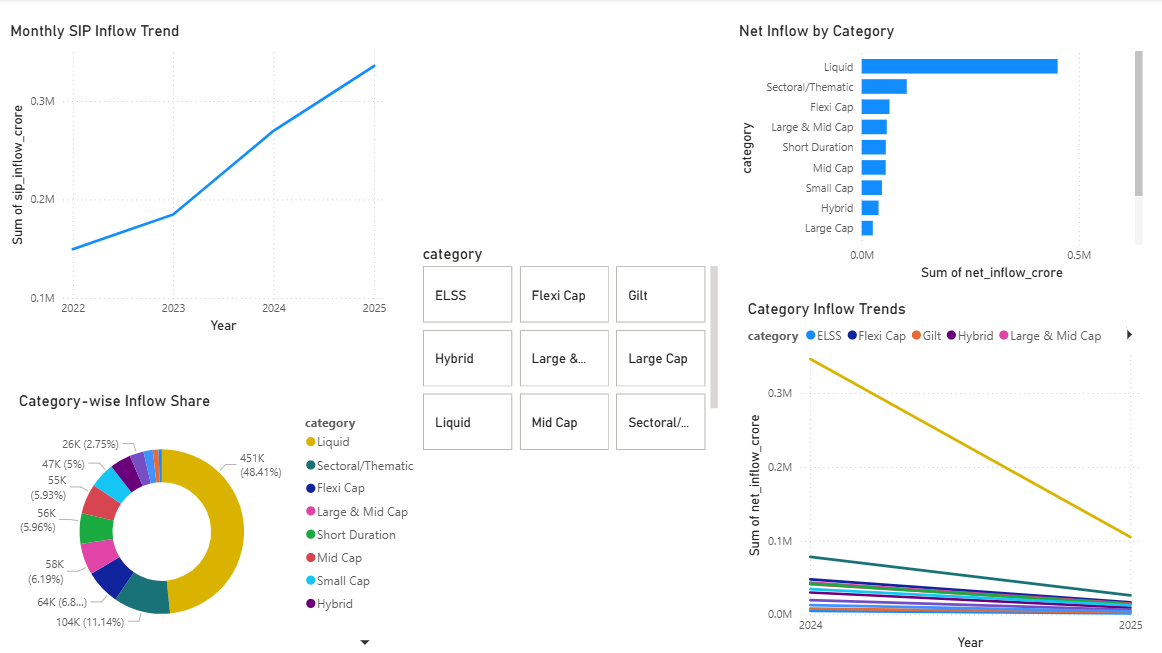

Layout of this report page (visuals, bound fields, positions):
{"tool":"powerbi","page":{"name":"SIP & Market Trends","canvas":[1280,720],"ordinal":3},"visuals":[{"type":"lineChart","title":"Monthly SIP Inflow Trend","fields":{"Category":["04_monthly_sip_inflows.month.Variation.Date Hierarchy.Year","04_monthly_sip_inflows.month.Variation.Date Hierarchy.Quarter","04_monthly_sip_inflows.month.Variation.Date Hierarchy.Month","04_monthly_sip_inflows.month.Variation.Date Hierarchy.Day"],"Y":["Sum(04_monthly_sip_inflows.sip_inflow_crore)"]},"box":[9.6,26.1,422.6,347.2],"z":0},{"type":"clusteredBarChart","title":"Net Inflow by Category","fields":{"Category":["05_category_inflows.category"],"Y":["Sum(05_category_inflows.net_inflow_crore)"]},"box":[809.6,26.1,452.8,288.2],"z":1000},{"type":"donutChart","title":"Category-wise Inflow Share","fields":{"Category":["05_category_inflows.category"],"Y":["Sum(05_category_inflows.net_inflow_crore)"]},"box":[19.2,432.2,452.8,288.2],"z":2000},{"type":"lineChart","title":"Category Inflow Trends","fields":{"Category":["05_category_inflows.month.Variation.Date Hierarchy.Year","05_category_inflows.month.Variation.Date Hierarchy.Quarter","05_category_inflows.month.Variation.Date Hierarchy.Month","05_category_inflows.month.Variation.Date Hierarchy.Day"],"Y":["Sum(05_category_inflows.net_inflow_crore)"],"Series":["05_category_inflows.category"]},"box":[819.2,330.7,443.2,389.7],"z":3000},{"type":"advancedSlicerVisual","fields":{"Values":["05_category_inflows.category"]},"box":[462.4,270.3,334.8,231.9],"z":4000}]}

Visuals, with their boxes in screenshot pixels (x1, y1, x2, y2), scaled from the page's 1280x720 canvas onto the 1162x653 screenshot:
"Monthly SIP Inflow Trend" lineChart: x1=9 y1=24 x2=392 y2=339
"Net Inflow by Category" clusteredBarChart: x1=735 y1=24 x2=1146 y2=285
"Category-wise Inflow Share" donutChart: x1=17 y1=392 x2=428 y2=652
"Category Inflow Trends" lineChart: x1=744 y1=300 x2=1146 y2=652
advancedSlicerVisual - 05_category_inflows.category: x1=420 y1=245 x2=724 y2=455
